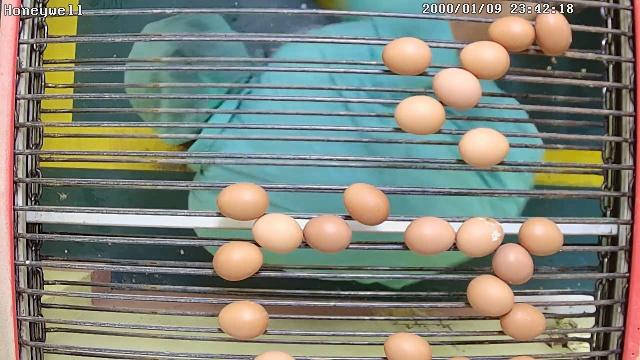egg: (252, 210, 304, 255), (402, 214, 457, 256), (431, 67, 483, 111), (393, 94, 447, 136), (343, 180, 392, 226), (381, 34, 432, 78), (459, 37, 511, 80), (217, 298, 270, 340), (466, 273, 515, 318), (458, 127, 511, 168), (454, 215, 504, 258), (302, 212, 353, 254), (217, 182, 270, 222), (212, 240, 264, 280), (516, 217, 564, 259), (500, 300, 548, 342), (491, 242, 535, 287), (534, 8, 574, 57), (487, 15, 537, 52), (383, 327, 432, 360)
